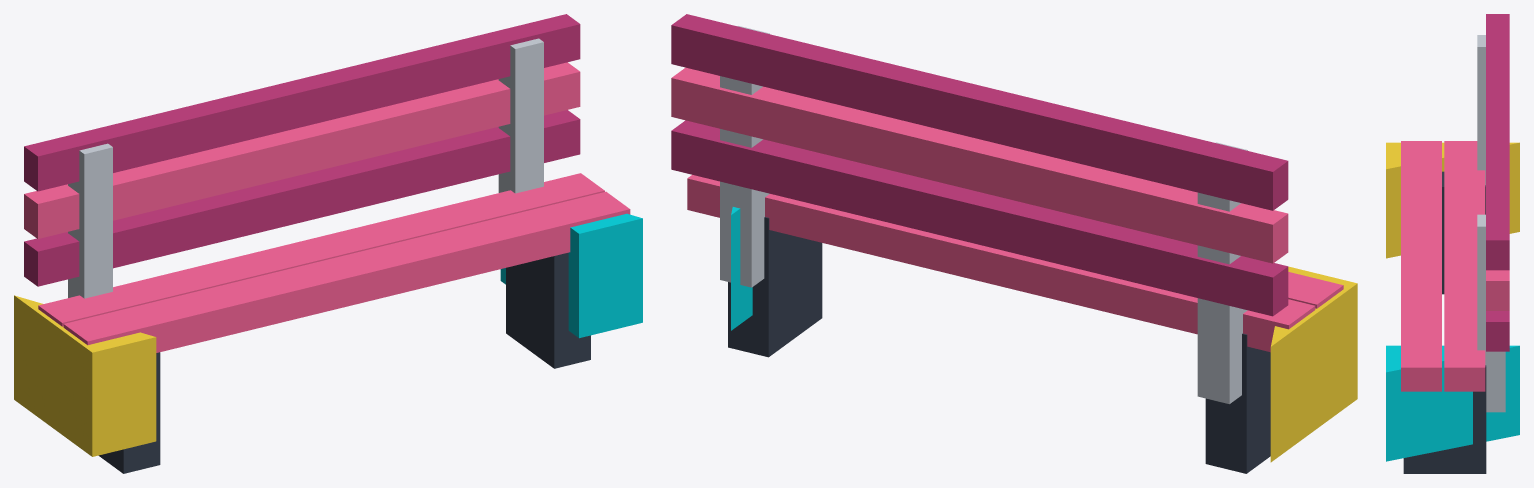
The model's file is Bench_Block.fbx.
The picture shows the model from 3 angles, left to right: view 1: azimuth 30°, elevation 25°; view 2: azimuth 150°, elevation 25°; view 3: azimuth 270°, elevation 25°; orthographic projection. The views are drawn at different scales.
Visible parts, largest first — view 1: Bench_Block; view 2: Bench_Block; view 3: Bench_Block.
Boxes of the visible parts, x1,y1,x2,y2 form: Bench_Block: [14, 14, 642, 473]; Bench_Block: [671, 14, 1357, 473]; Bench_Block: [1386, 14, 1519, 473].
Size of the model in its own units: 690 by 349 by 170.
